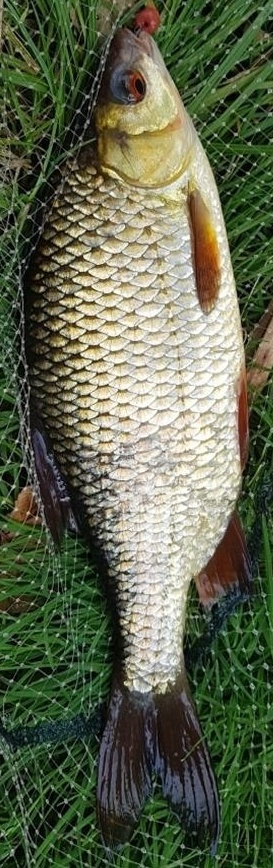Rutilus rutilus: (20, 20, 253, 848)
